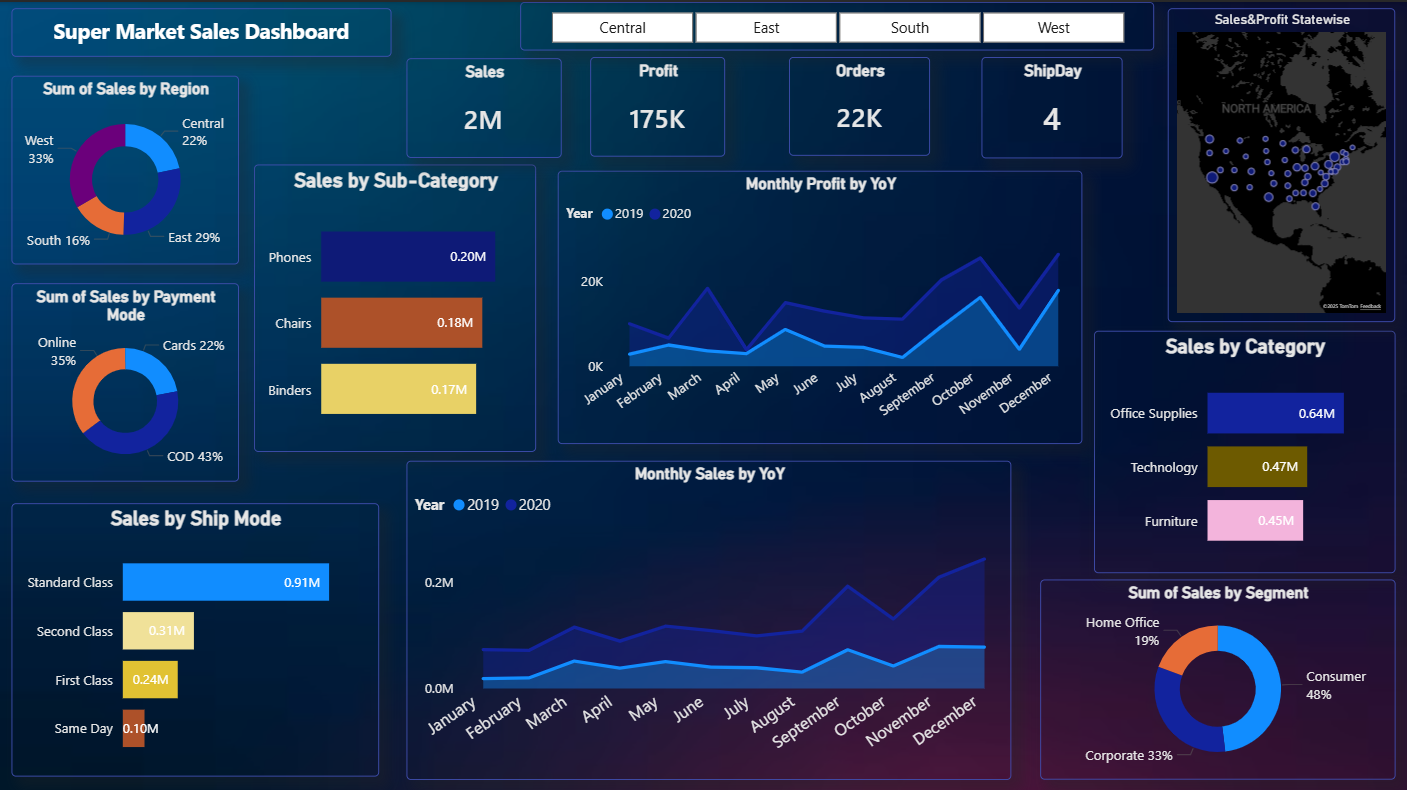

The dashboard page shown, as its layout file describes it:
{"tool":"powerbi","page":{"name":"Page 1","canvas":[1280,720],"ordinal":0},"visuals":[{"type":"clusteredBarChart","title":" Sales by Category","fields":{"Category":["SuperStore_Sales_Dataset.Category"],"Y":["Sum(SuperStore_Sales_Dataset.Sales)"]},"box":[993.6,298.3,273.3,220],"z":0},{"type":"clusteredBarChart","title":" Sales by Sub-Category","fields":{"Category":["SuperStore_Sales_Dataset.Sub-Category"],"Y":["Sum(SuperStore_Sales_Dataset.Sales)"]},"box":[231.4,147.4,256.3,260.9],"z":1000},{"type":"clusteredBarChart","title":" Sales by Ship Mode","fields":{"Category":["SuperStore_Sales_Dataset.Ship Mode","SuperStore_Sales_Dataset.Category"],"Y":["Sum(SuperStore_Sales_Dataset.Sales)"]},"box":[11.3,454.8,333.5,248.4],"z":2000},{"type":"stackedAreaChart","title":"Monthly Sales by YoY","fields":{"Y":["Sum(SuperStore_Sales_Dataset.Sales)"],"Series":["SuperStore_Sales_Dataset.Order Date.Variation.Date Hierarchy.Year"],"Category":["SuperStore_Sales_Dataset.Order Date.Variation.Date Hierarchy.Month"]},"box":[369.8,416.3,549,289.2],"z":3000},{"type":"stackedAreaChart","title":"Monthly Profit by YoY","fields":{"Series":["SuperStore_Sales_Dataset.Order Date.Variation.Date Hierarchy.Year"],"Category":["SuperStore_Sales_Dataset.Order Date.Variation.Date Hierarchy.Month"],"Y":["Sum(SuperStore_Sales_Dataset.Profit)"]},"box":[507,153.1,476.4,248.4],"z":4000},{"type":"azureMap","title":"Sales&Profit Statewise ","fields":{"Category":["SuperStore_Sales_Dataset.State"],"Size":["Sum(SuperStore_Sales_Dataset.Sales)"]},"box":[1060.5,5.7,206.4,284.7],"z":5000},{"type":"donutChart","fields":{"Y":["Sum(SuperStore_Sales_Dataset.Sales)"],"Series":["SuperStore_Sales_Dataset.Payment Mode"]},"box":[11.3,255.2,206.4,180.3],"z":6000},{"type":"donutChart","fields":{"Y":["Sum(SuperStore_Sales_Dataset.Sales)"],"Series":["SuperStore_Sales_Dataset.Region"]},"box":[11.3,66.9,206.4,171.3],"z":7000},{"type":"donutChart","fields":{"Y":["Sum(SuperStore_Sales_Dataset.Sales)"],"Series":["SuperStore_Sales_Dataset.Segment"]},"box":[944.8,524,322.1,181.5],"z":8000},{"type":"slicer","fields":{"Values":["SuperStore_Sales_Dataset.Region"]},"box":[473,0,575.1,44.2],"z":9000},{"type":"cardVisual","title":"Sales","fields":{"Data":["Sum(SuperStore_Sales_Dataset.Sales)"]},"box":[369.8,51,140.6,90.7],"z":9001},{"type":"cardVisual","title":"Orders","fields":{"Data":["Sum(SuperStore_Sales_Dataset.Quantity)"]},"box":[716.8,49.9,128.2,89.6],"z":9002},{"type":"cardVisual","title":"Profit","fields":{"Data":["Sum(SuperStore_Sales_Dataset.Profit)"]},"box":[536.5,49.9,122.5,90.7],"z":9003},{"type":"textbox","box":[11.3,5.7,344.8,44.2],"z":9004},{"type":"cardVisual","title":"ShipDay","fields":{"Data":["Avg(SuperStore_Sales_Dataset.AvgDelivery)"]},"box":[891.5,49.9,128.2,91.9],"z":9005}]}

Visuals, with their boxes in screenshot pixels (x1, y1, x2, y2), scaled from the page's 1280x720 canvas onto the 1407x790 screenshot:
" Sales by Category" clusteredBarChart: (1092,327,1393,569)
" Sales by Sub-Category" clusteredBarChart: (254,162,536,448)
" Sales by Ship Mode" clusteredBarChart: (12,499,379,772)
"Monthly Sales by YoY" stackedAreaChart: (406,457,1010,774)
"Monthly Profit by YoY" stackedAreaChart: (557,168,1081,441)
"Sales&Profit Statewise " azureMap: (1166,6,1393,319)
donutChart - Sum(SuperStore_Sales_Dataset.Sales) x SuperStore_Sales_Dataset.Payment Mode: (12,280,239,478)
donutChart - Sum(SuperStore_Sales_Dataset.Sales) x SuperStore_Sales_Dataset.Region: (12,73,239,261)
donutChart - Sum(SuperStore_Sales_Dataset.Sales) x SuperStore_Sales_Dataset.Segment: (1039,575,1393,774)
slicer - SuperStore_Sales_Dataset.Region: (520,0,1152,48)
"Sales" cardVisual: (406,56,561,155)
"Orders" cardVisual: (788,55,929,153)
"Profit" cardVisual: (590,55,724,154)
textbox: (12,6,391,55)
"ShipDay" cardVisual: (980,55,1121,156)
